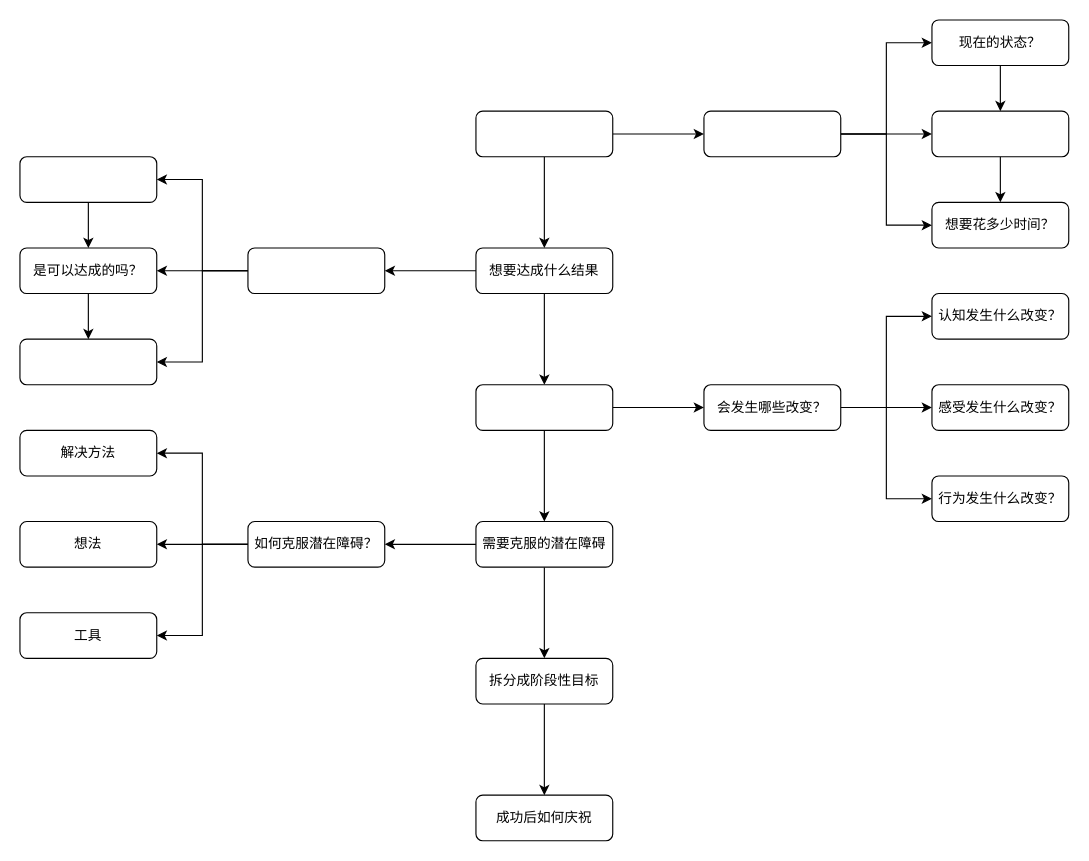
This 1089x861 diagram has some shape labels left out. Each missing label, with the centre of its shape:
"Smart 原则" goes at pixel 88 361.
"原因是什么？" goes at pixel 772 133.
"如何知道结果已达成" goes at pixel 544 407.
"想要实现什么目标" goes at pixel 544 133.
"想要达成的状态？" goes at pixel 1000 133.
"获得什么样的结果 代表了成功？" goes at pixel 88 179.
"衡量标准是什么？" goes at pixel 316 270.
